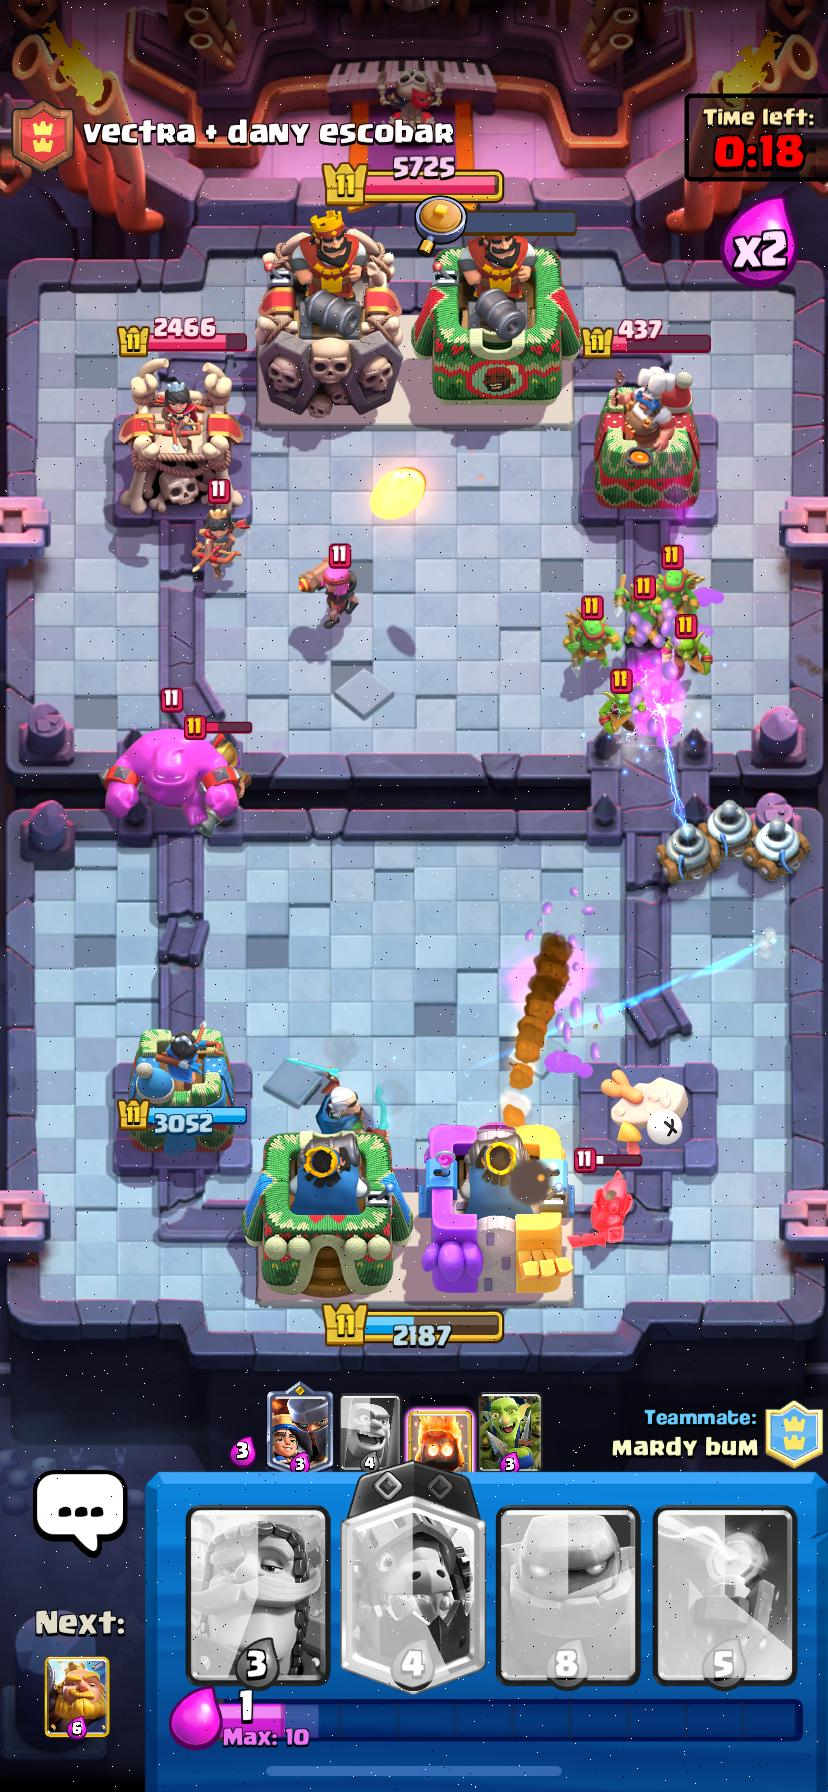EFirecrack: (298, 543, 357, 629)
EGoblin: (599, 667, 643, 736), (664, 634, 711, 677)
EGolem: (109, 727, 233, 826)
EKingTower: (255, 213, 403, 417), (412, 234, 579, 403)
EPrincess: (192, 506, 239, 578)
ESpearGoblin: (564, 595, 621, 667), (614, 575, 661, 643), (653, 567, 703, 617)
EnemyPanTower: (594, 365, 699, 511)
EnemyPrincessTower: (117, 359, 242, 514)
OZappy: (745, 816, 809, 880), (656, 822, 719, 885), (707, 802, 751, 857)
OwnKingTower: (242, 1127, 412, 1294), (422, 1123, 573, 1298)
OwnPrincessTower: (117, 1023, 246, 1157)
TowerDown: (578, 1064, 717, 1174)
